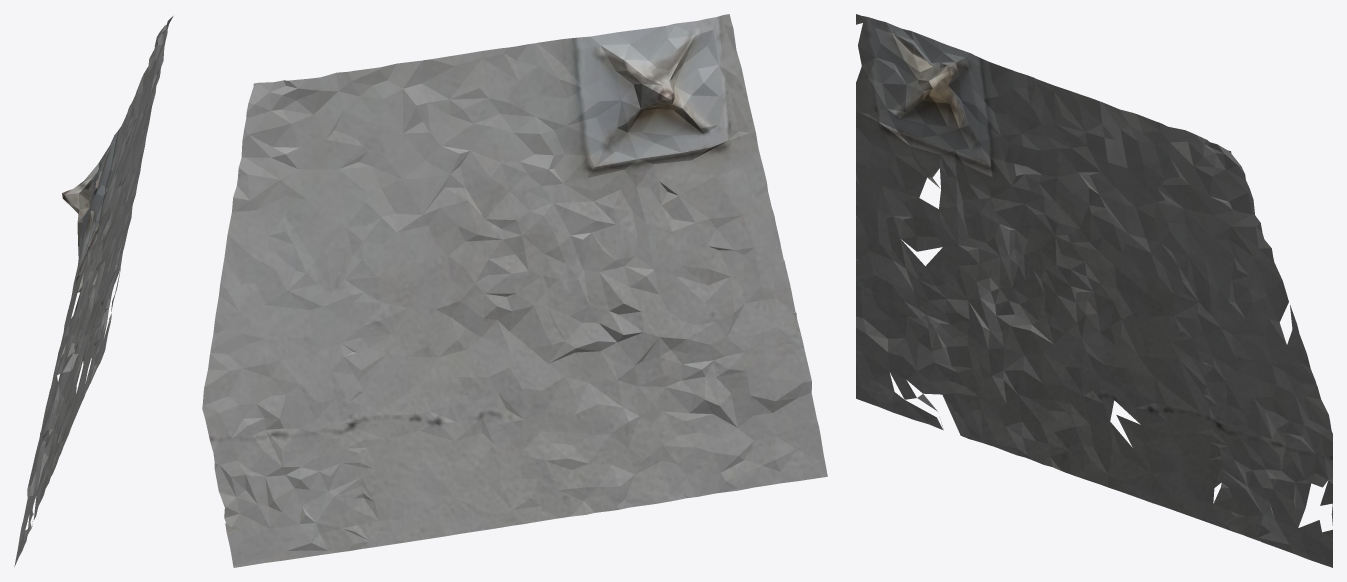
3 renders of one model, left to right at view 1: azimuth 30°, elevation 25°; view 2: azimuth 150°, elevation 25°; view 3: azimuth 270°, elevation 25°, orthographic. The views are drawn at different scales.
Size of the model in its own units: 0.7664 by 0.8374 by 0.8374.
3 materials, 3 textured.
